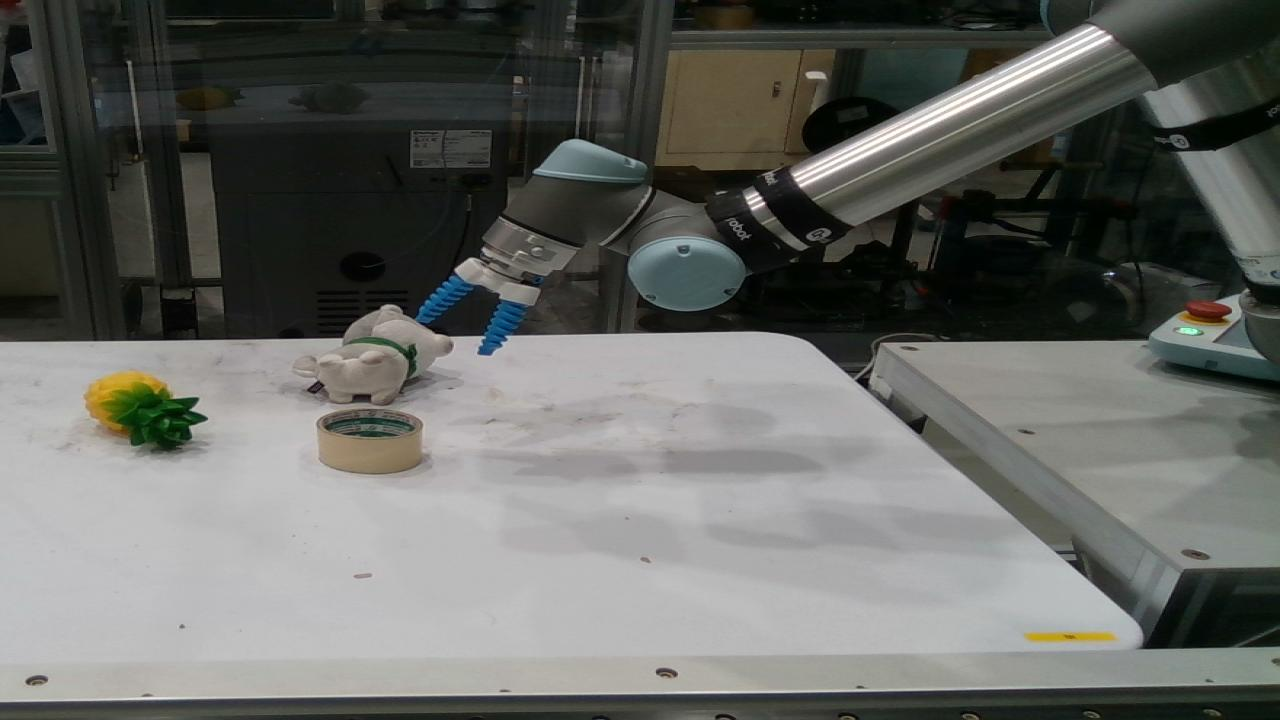UR5: (453, 0, 1274, 361)
gripper_left: (420, 273, 468, 324)
gripper_right: (482, 300, 524, 354)
target: (296, 307, 454, 404), (88, 372, 204, 448), (318, 412, 420, 472)
